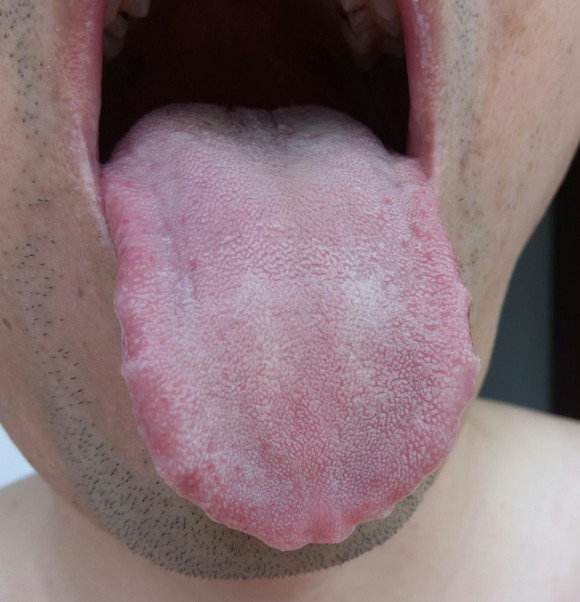baitaishe: (103, 102, 483, 552)
chihenshe: (114, 302, 213, 515)
